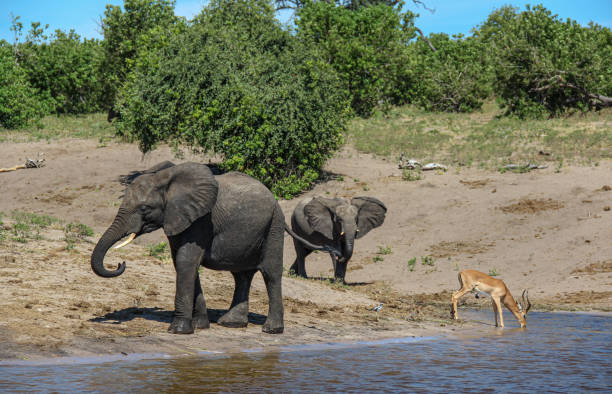africanelephant: (87, 164, 222, 280)
